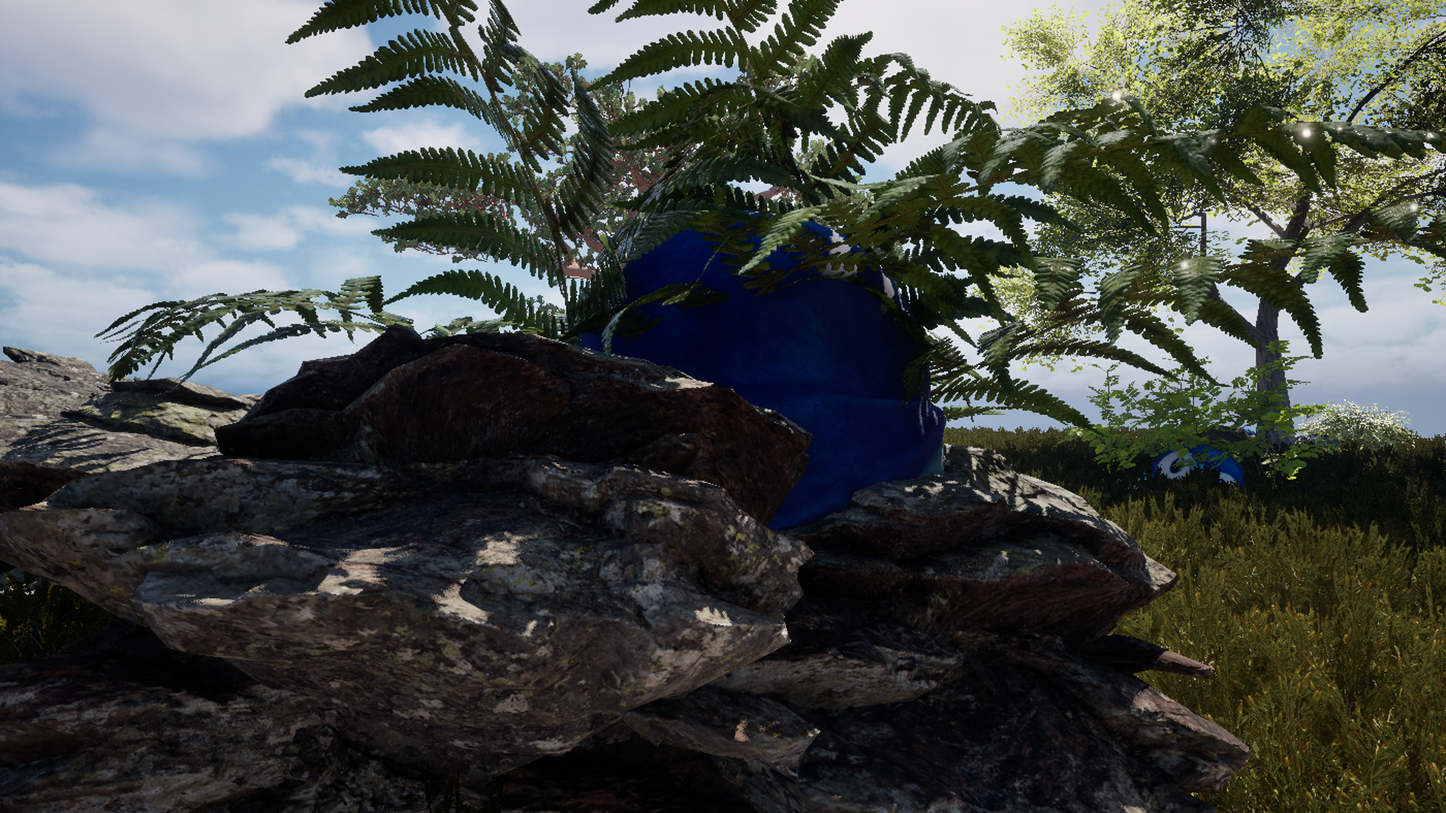Piplup: (383, 22, 1091, 791)
